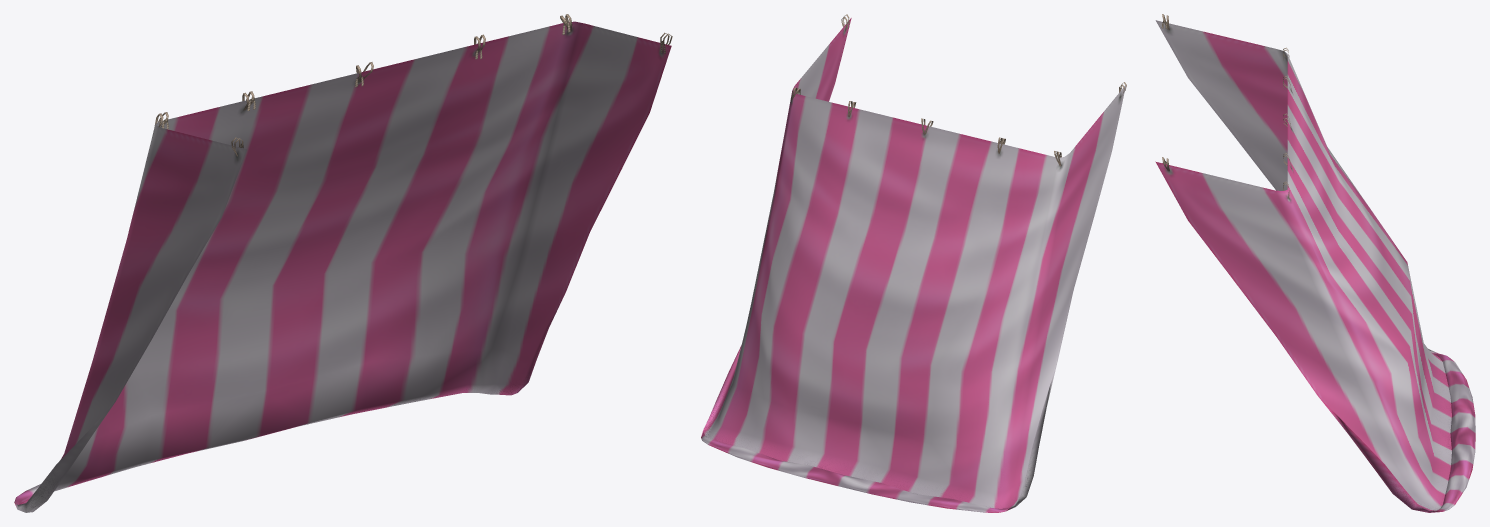
Rendered from jsf_BackSide_s01_c06_t02.fbx.
3 renders of one model, left to right at view 1: azimuth 30°, elevation 25°; view 2: azimuth 150°, elevation 25°; view 3: azimuth 270°, elevation 25°, orthographic. The views are drawn at different scales.
Visible parts, largest first — view 1: jsf_BackSide_s01_c06_t02; view 2: jsf_BackSide_s01_c06_t02; view 3: jsf_BackSide_s01_c06_t02.
Part boxes in pixels (x1=…): jsf_BackSide_s01_c06_t02: x1=14, y1=14, x2=672, y2=512; jsf_BackSide_s01_c06_t02: x1=701, y1=14, x2=1126, y2=512; jsf_BackSide_s01_c06_t02: x1=1155, y1=14, x2=1475, y2=512.
Bounding box in the file's own units: 207 × 205 × 171.
